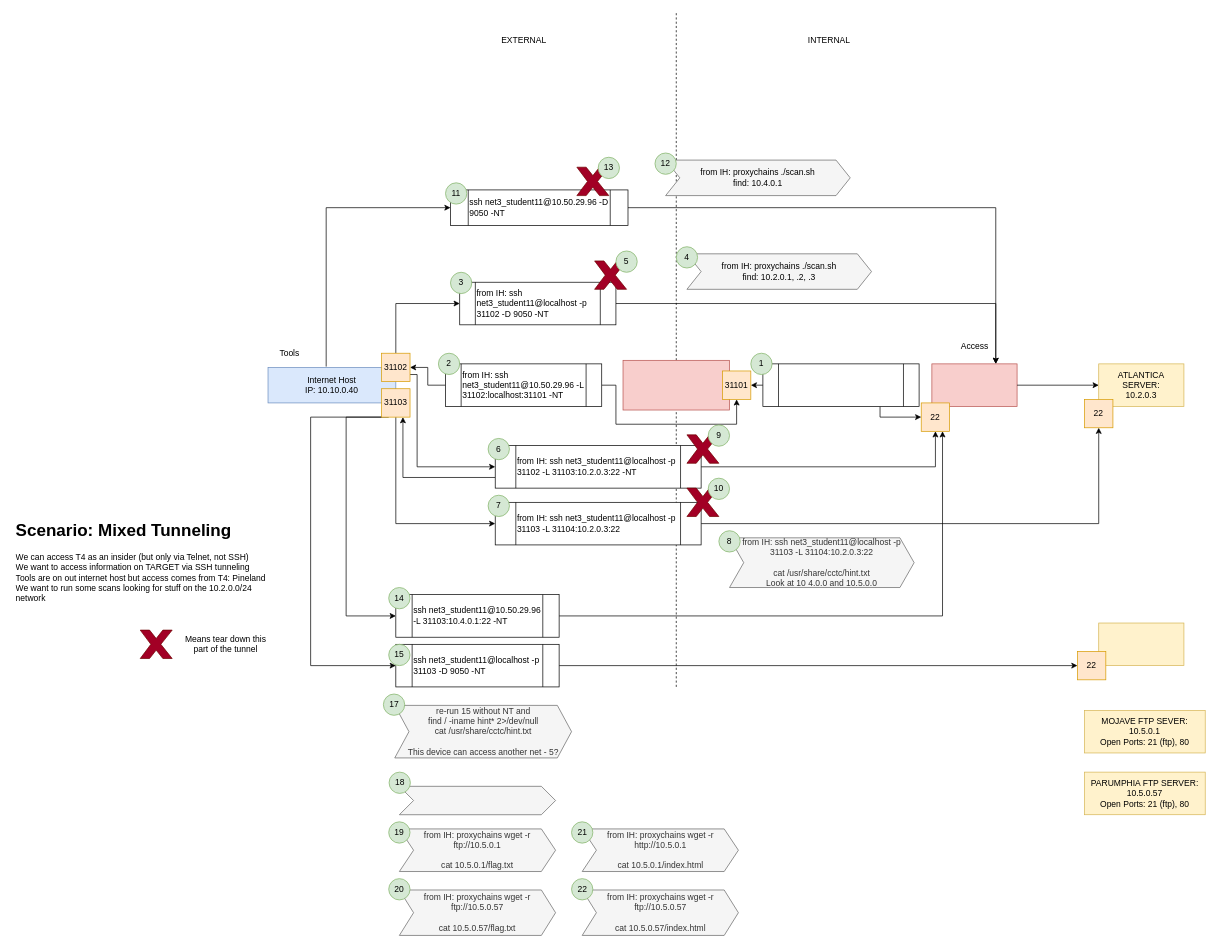
Image size: 1218x948. Some labels were removed from this diagram. The shapes that lost their labels are listed below. From the top down, each one's centre as x and y in pixels, then its label:
point (676, 385): T3: Atropia Internal: 10.3.0.10 External: 10.50.29.96
point (840, 384): Telnet into T4 then ssh -R 31101:localhost:22 net3_student11@10.3.0.10 -NT
point (974, 384): T4: Pineland IP: 10.50.21.23
point (1141, 644): BAJA REPUBLIC PIVOT: 10.4.0.1 Open Ports: 22
point (477, 800): from IH: proxychains ./scan.sh find: 10.5.0.1, .57
